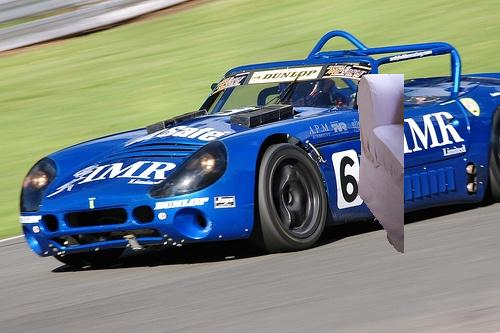tampered: (358, 75, 404, 253)
